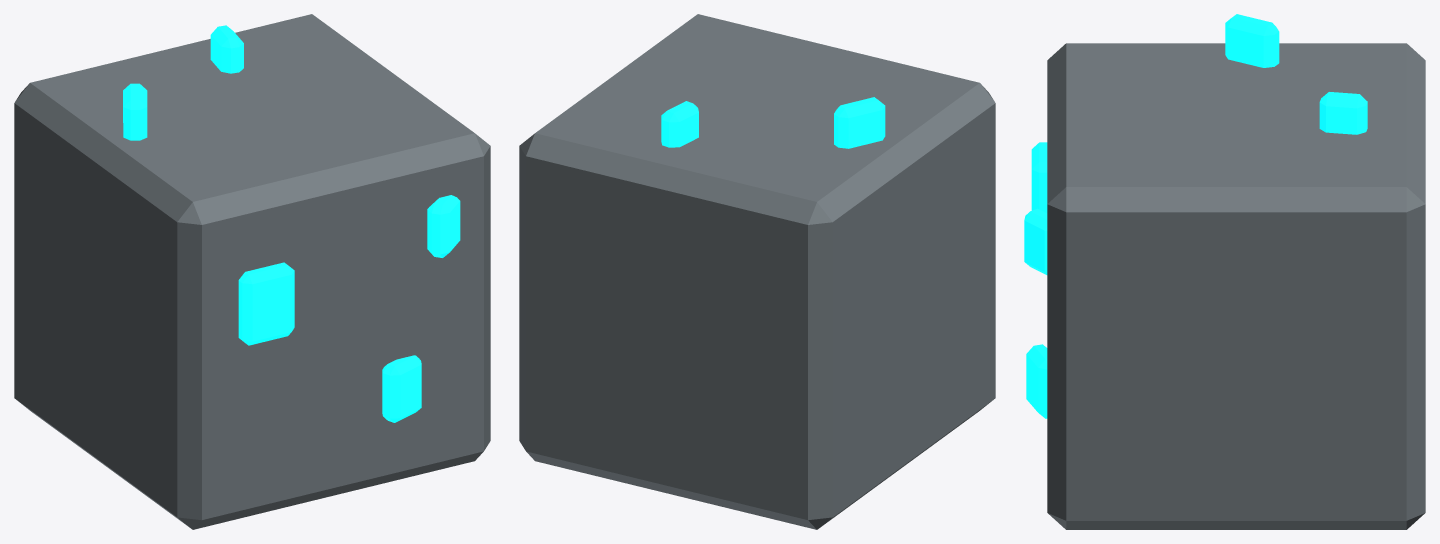
The model's file is voxhaven-crystal-ore.glb.
The picture shows the model from 3 angles, left to right: view 1: azimuth 30°, elevation 25°; view 2: azimuth 150°, elevation 25°; view 3: azimuth 270°, elevation 25°; orthographic projection. The views are drawn at different scales.
Visible parts, largest first — view 1: OreStone, Crystal_0, Crystal_1, Crystal_2, Crystal_3, Crystal_4; view 2: OreStone, Crystal_3, Crystal_4; view 3: OreStone, Crystal_3, Crystal_4, Crystal_1, Crystal_2, Crystal_0.
Part boxes in pixels (box(x1,y1,x2,y2)): OreStone: box(14, 14, 490, 529); Crystal_0: box(238, 262, 294, 345); Crystal_1: box(382, 355, 421, 422); Crystal_2: box(427, 195, 460, 257); Crystal_3: box(123, 83, 147, 140); Crystal_4: box(210, 25, 243, 73); OreStone: box(519, 14, 995, 529); Crystal_3: box(834, 97, 885, 148); Crystal_4: box(661, 101, 698, 147); OreStone: box(1047, 43, 1425, 529); Crystal_3: box(1225, 14, 1279, 67); Crystal_4: box(1319, 92, 1367, 134); Crystal_1: box(1026, 344, 1047, 418); Crystal_2: box(1024, 208, 1047, 274); Crystal_0: box(1031, 142, 1047, 212).
Bounding box in the file's own units: 1.2 × 1.34 × 1.27.
